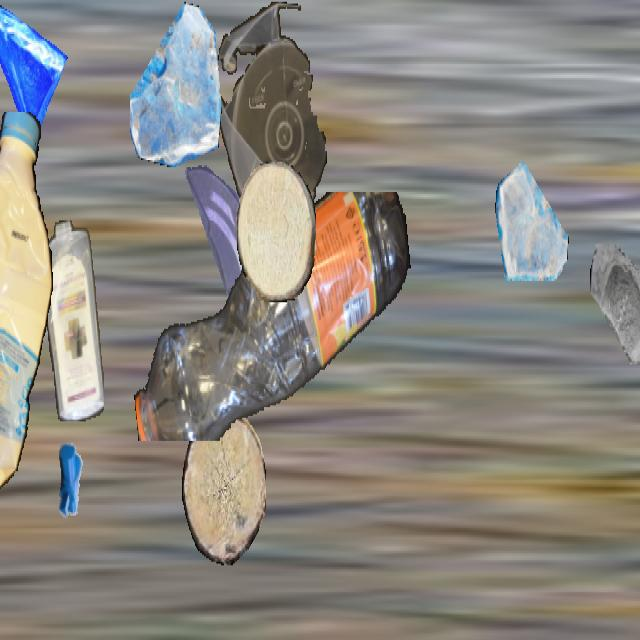glass: (130, 2, 222, 165), (181, 158, 265, 308), (0, 2, 68, 148), (495, 156, 569, 288), (589, 244, 640, 378)
metal: (40, 428, 102, 538)
plastic: (129, 192, 413, 441), (216, 2, 328, 236), (0, 112, 53, 489), (43, 220, 103, 420)
wood: (182, 412, 266, 566), (237, 162, 315, 300)
